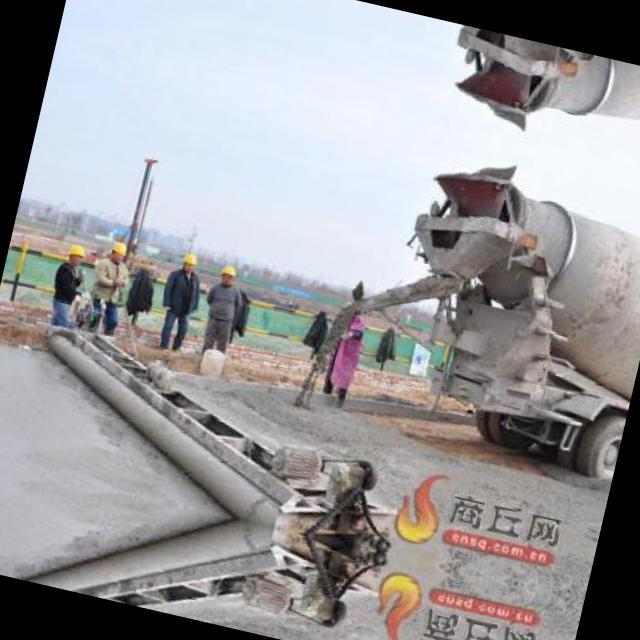helmet: (62, 236, 88, 268), (218, 260, 238, 287), (107, 236, 126, 263), (178, 250, 198, 274)
